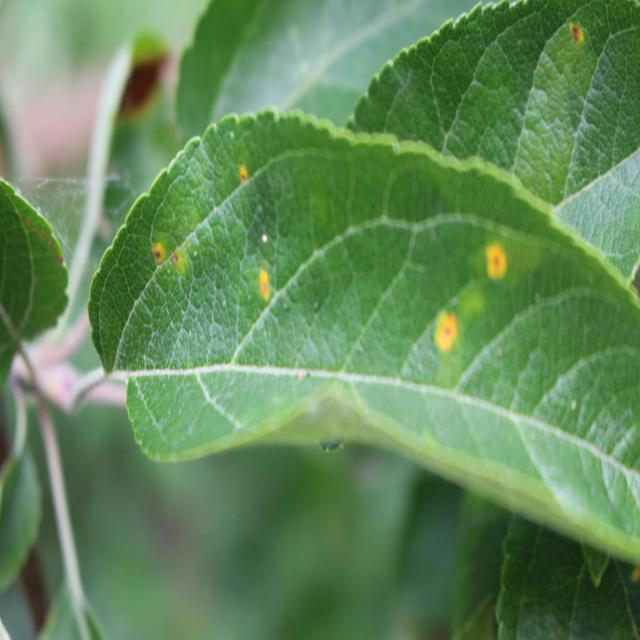Rust: (473, 226, 527, 288), (423, 308, 463, 362), (252, 258, 282, 322), (562, 14, 592, 64), (232, 135, 252, 203), (144, 221, 166, 281), (167, 233, 193, 279)
